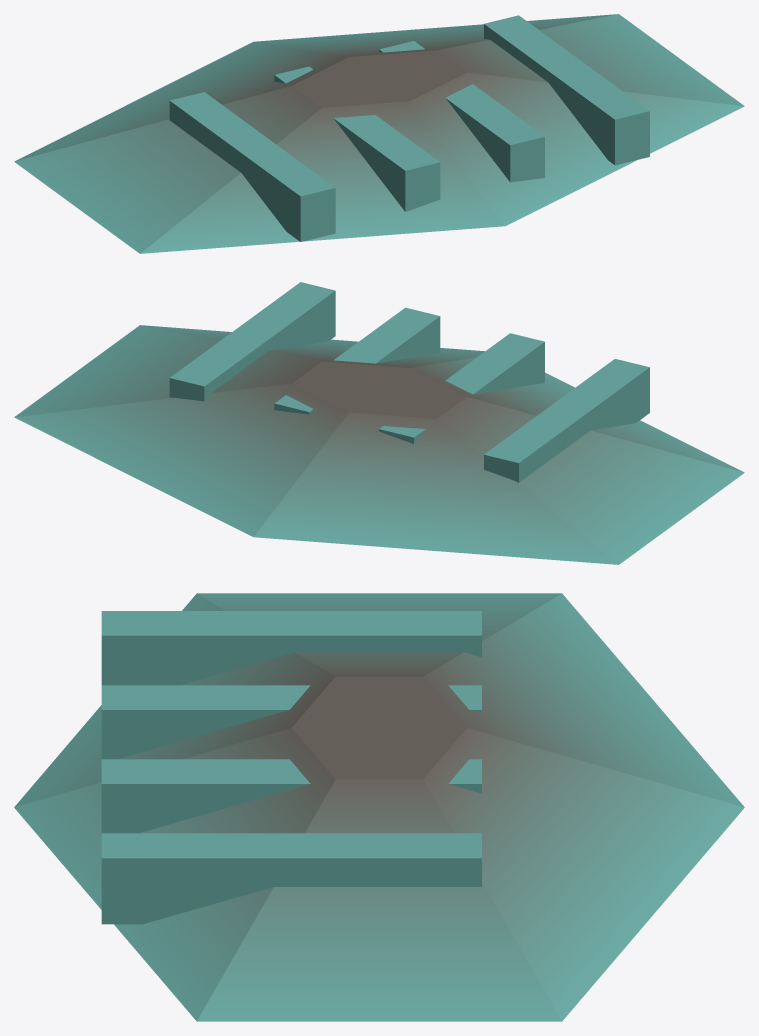
Rendered from foot_fin.glb.
The picture shows the model from 3 angles, top to bottom: view 1: azimuth 30°, elevation 25°; view 2: azimuth 150°, elevation 25°; view 3: azimuth 270°, elevation 25°; orthographic projection. The views are drawn at different scales.
Bounding box in the file's own units: 1 × 0.0866 × 0.7217.
